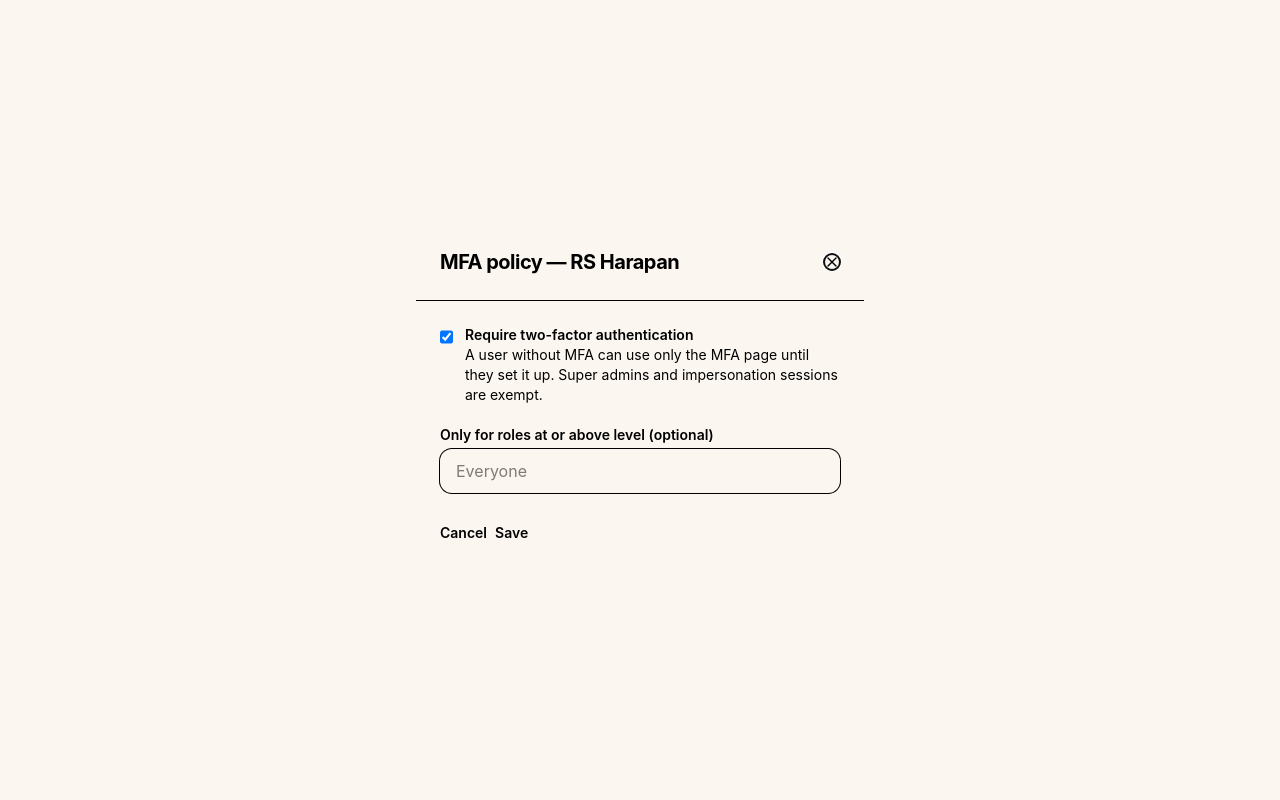
Test case: A-160: MfaPolicyPanel › refuses to save a level that is not a whole number
Type "admins" into the field labelled "Only for roles at or above level (optional)" at (640, 470), box x1=440 y1=448 x2=840 y2=492
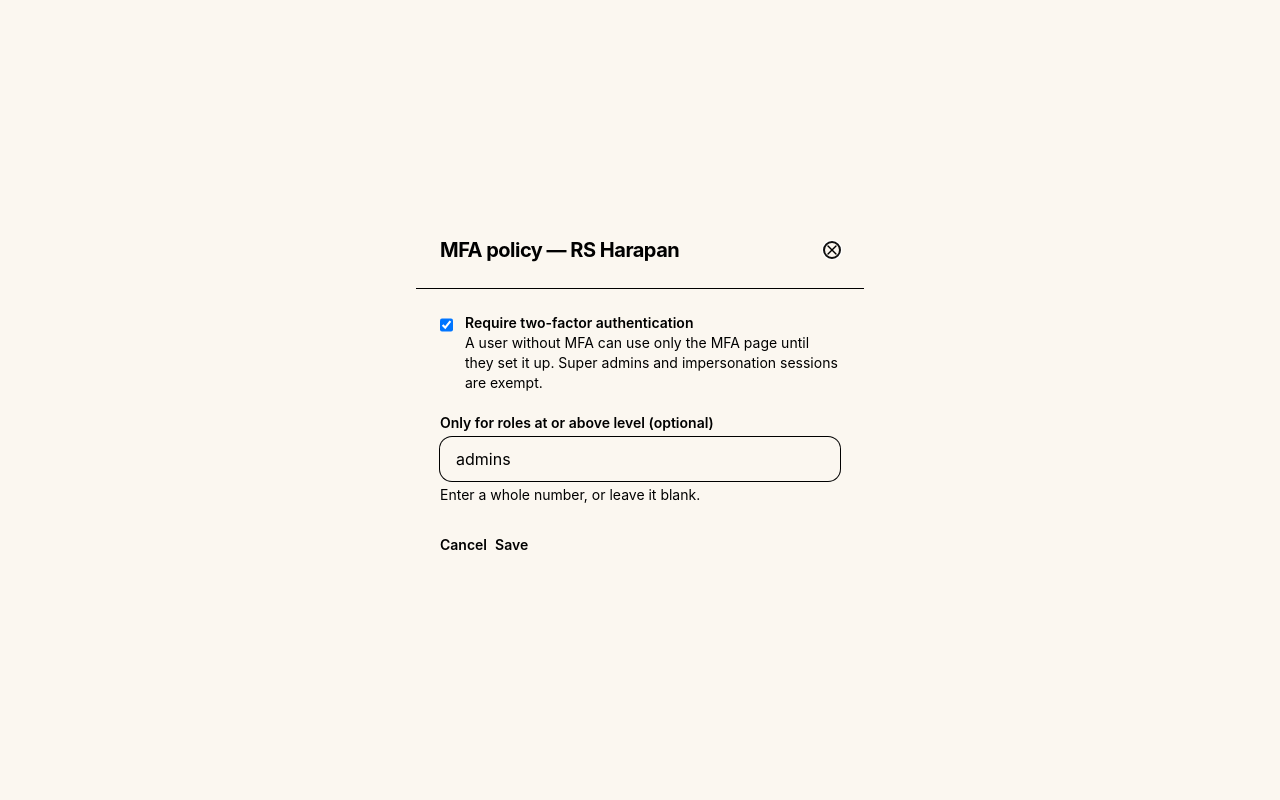
Expected: the text "Enter a whole number, or leave it blank." is shown, x1=440 y1=486 x2=700 y2=502
Expected: the button "Save" is disabled, x1=495 y1=524 x2=528 y2=564
